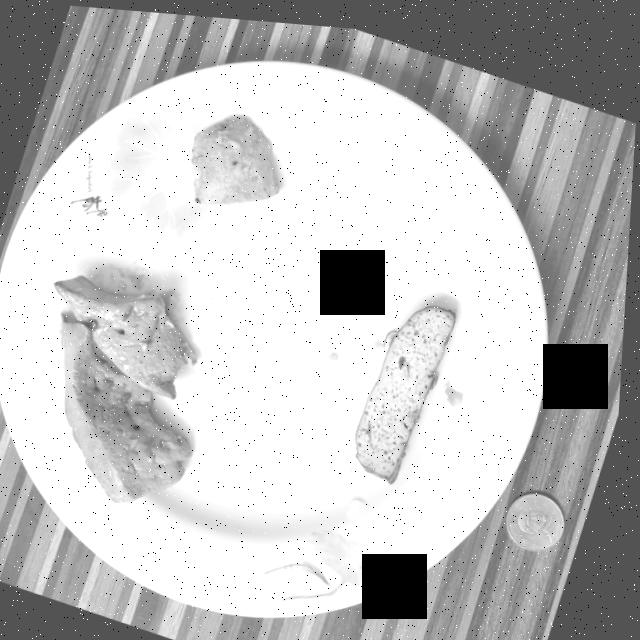coin: (512, 482, 570, 540)
firm tofu: (360, 297, 459, 474)
fried potato: (192, 111, 281, 200)
pig liver: (57, 272, 201, 499)
